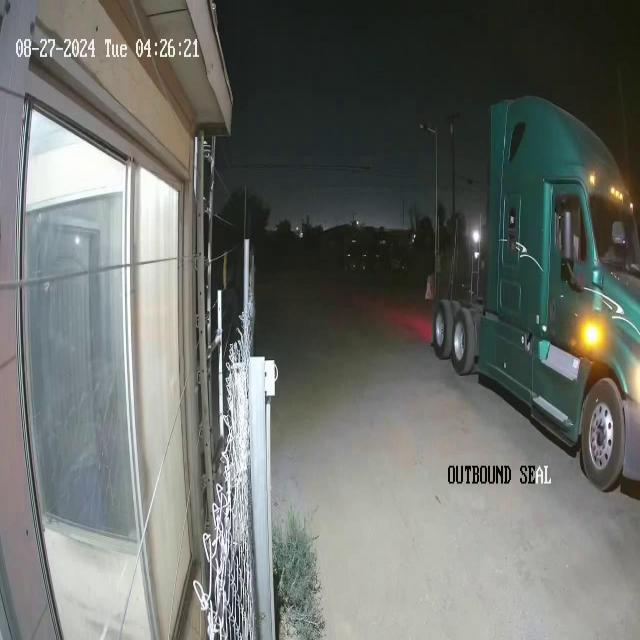TRUCK_IN: (431, 93, 639, 494)
